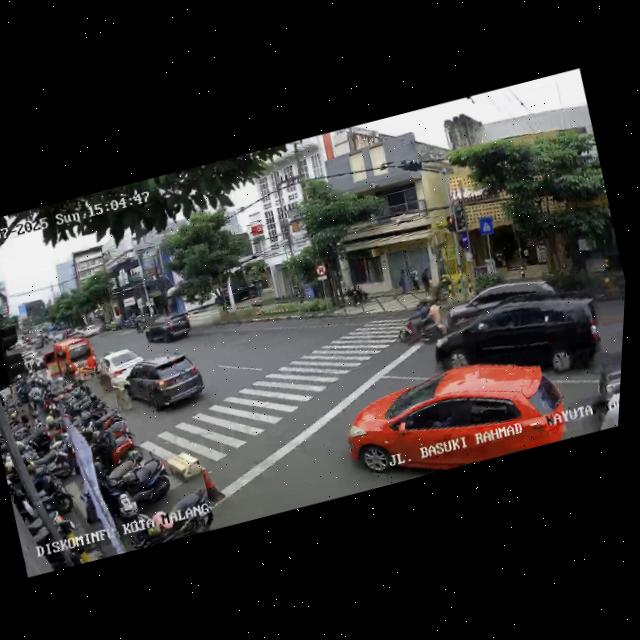car: (334, 341, 576, 493), (424, 280, 613, 403), (439, 266, 563, 335), (113, 345, 212, 423), (580, 341, 623, 430), (39, 333, 101, 387), (93, 343, 151, 393), (142, 309, 195, 350)
motorcycle: (396, 292, 451, 350)
person: (107, 366, 138, 412), (93, 356, 116, 395)
